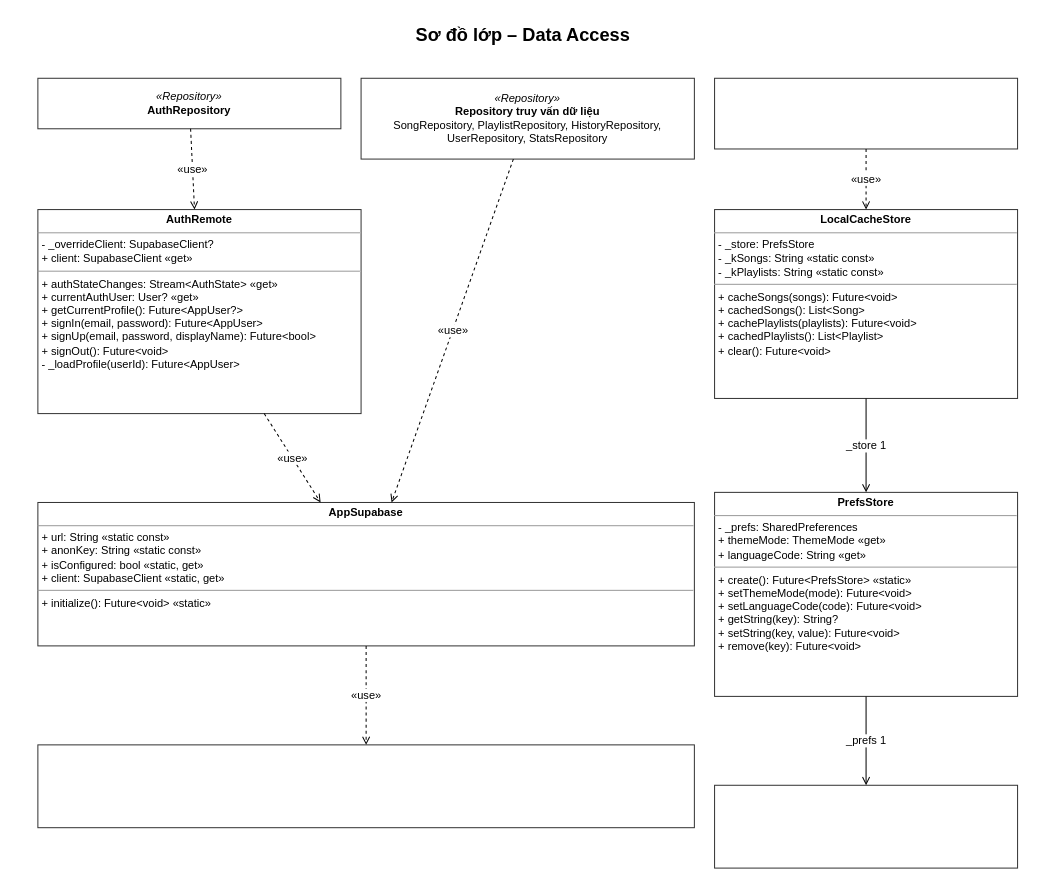
This 1044x886 diagram has some shape labels left out. The shapes that lost their labels are listed below. From the top down, each one's centre as x and y in pixels, then its label:
At point 866,113: "«Provider» Provider dùng cache SongProvider, PlaylistProvider".
At point 365,786: "«thư viện supabase_flutter» SupabaseClient auth, from(table), rpc(fn)".
At point 866,826: "«thư viện shared_preferences» SharedPreferences getString, setString, remove".
